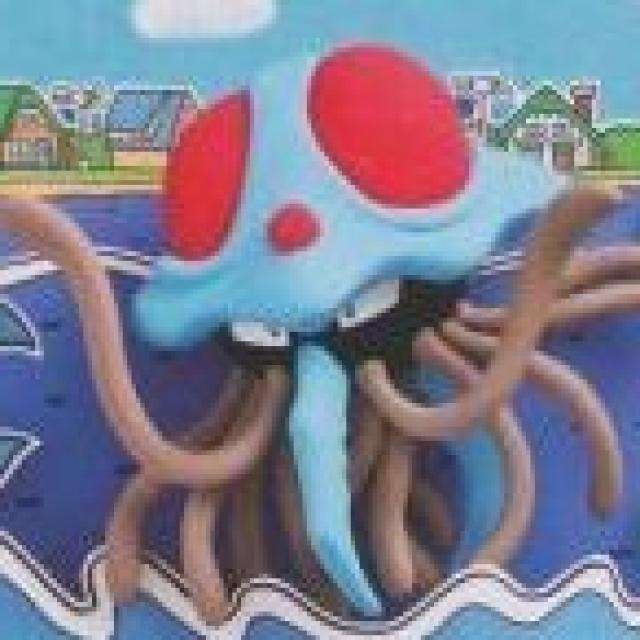Tentacruel: (125, 50, 536, 516)
